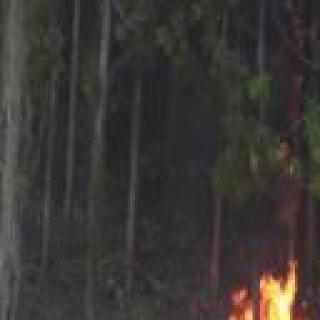fire: (182, 280, 320, 320)
